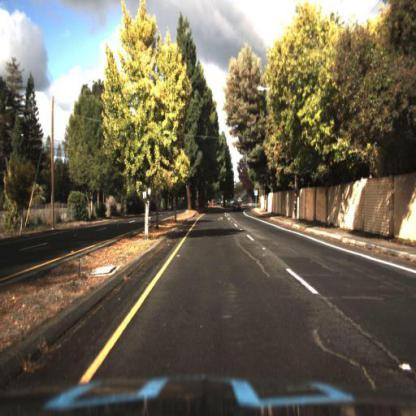car: (231, 200, 247, 217)
